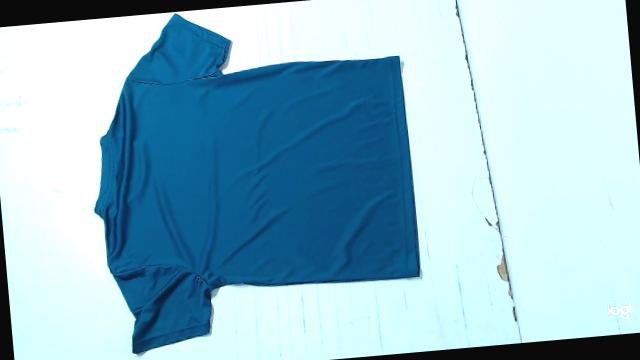new-garment: (95, 14, 420, 353)
